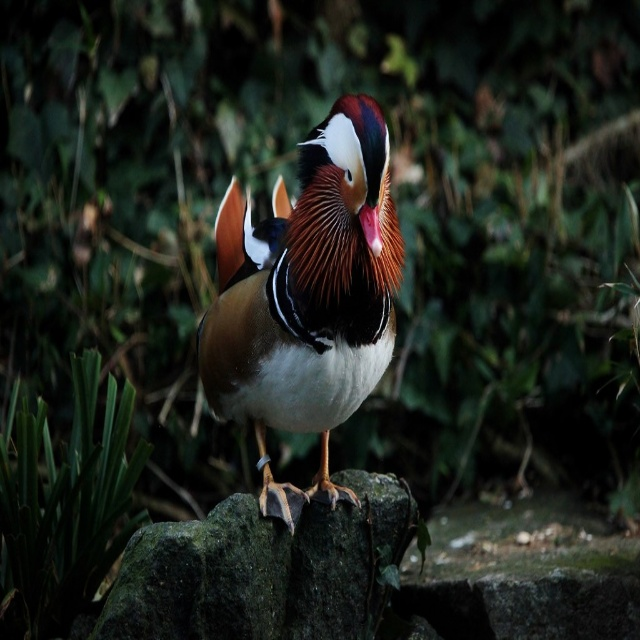Duck: (192, 77, 409, 539)
